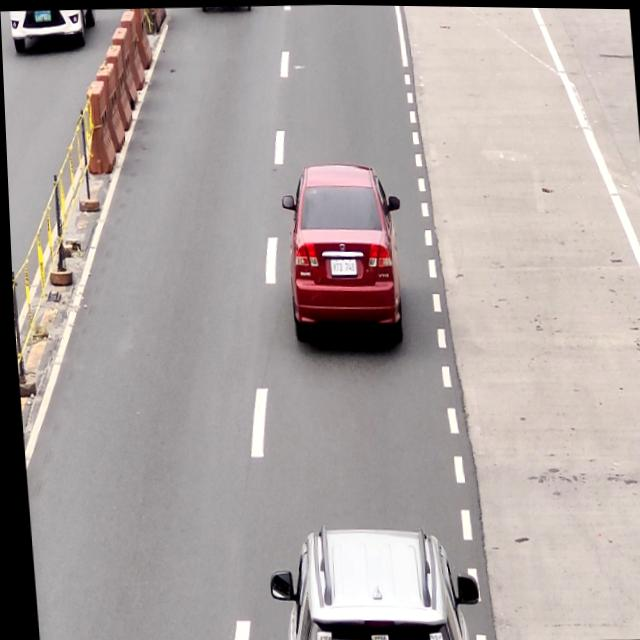Car: (264, 523, 465, 640), (280, 157, 402, 346)
License-Plate: (327, 254, 357, 277)
